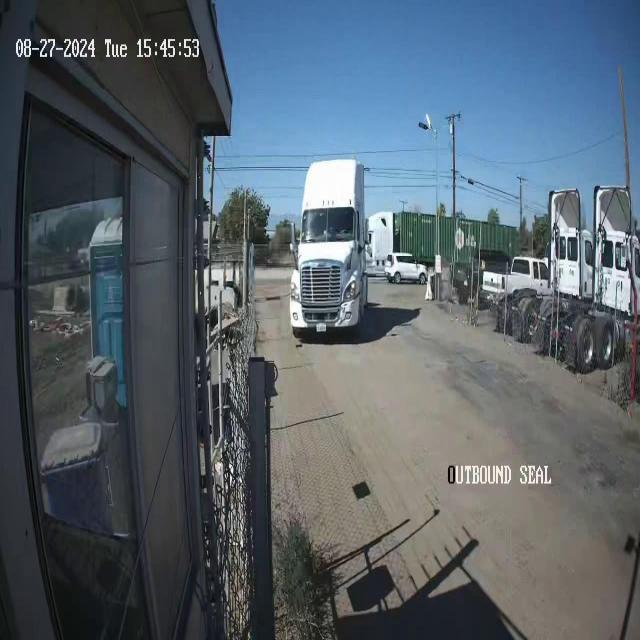TRUCK_OUT: (289, 156, 369, 340)
